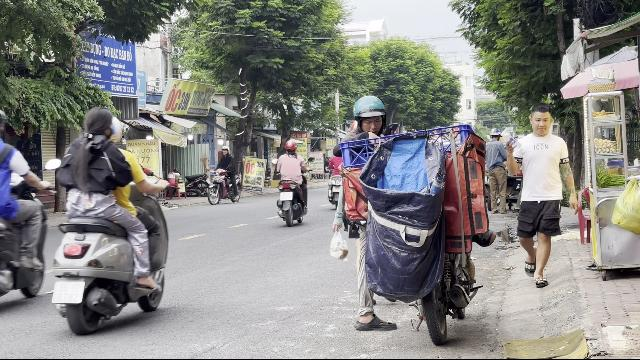helmet: (110, 114, 124, 144)
licenseplate: (52, 282, 86, 304)
motorcyclist: (46, 103, 172, 334), (0, 102, 48, 315)
nohelmet: (82, 106, 114, 140)
